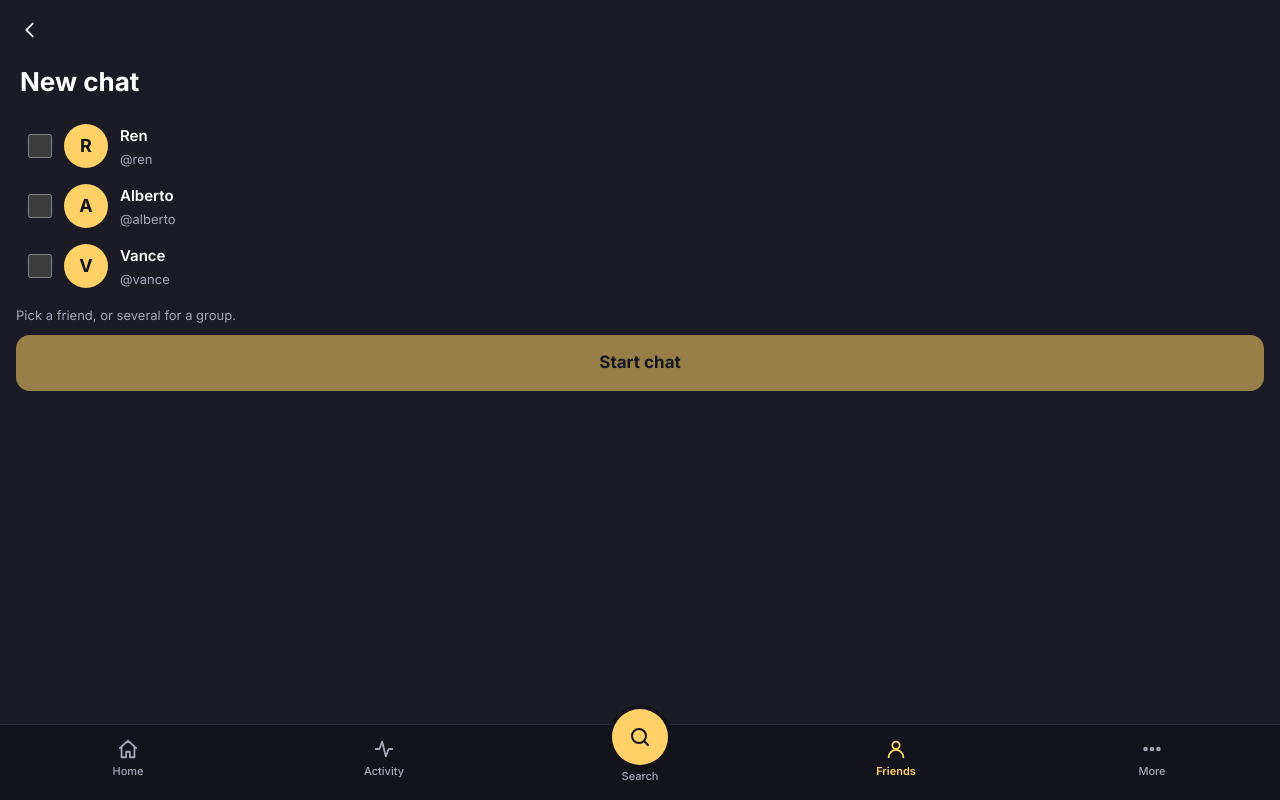
Scenario: New chat › lists your friends as checkboxes; the line says how many are picked
The image size is (1280, 800).
Expected: the button "Start chat" is disabled, [16,335,1264,391]
Click the checkbox labelled "R Ren @ren" at (40,146), box [28,134,52,158]
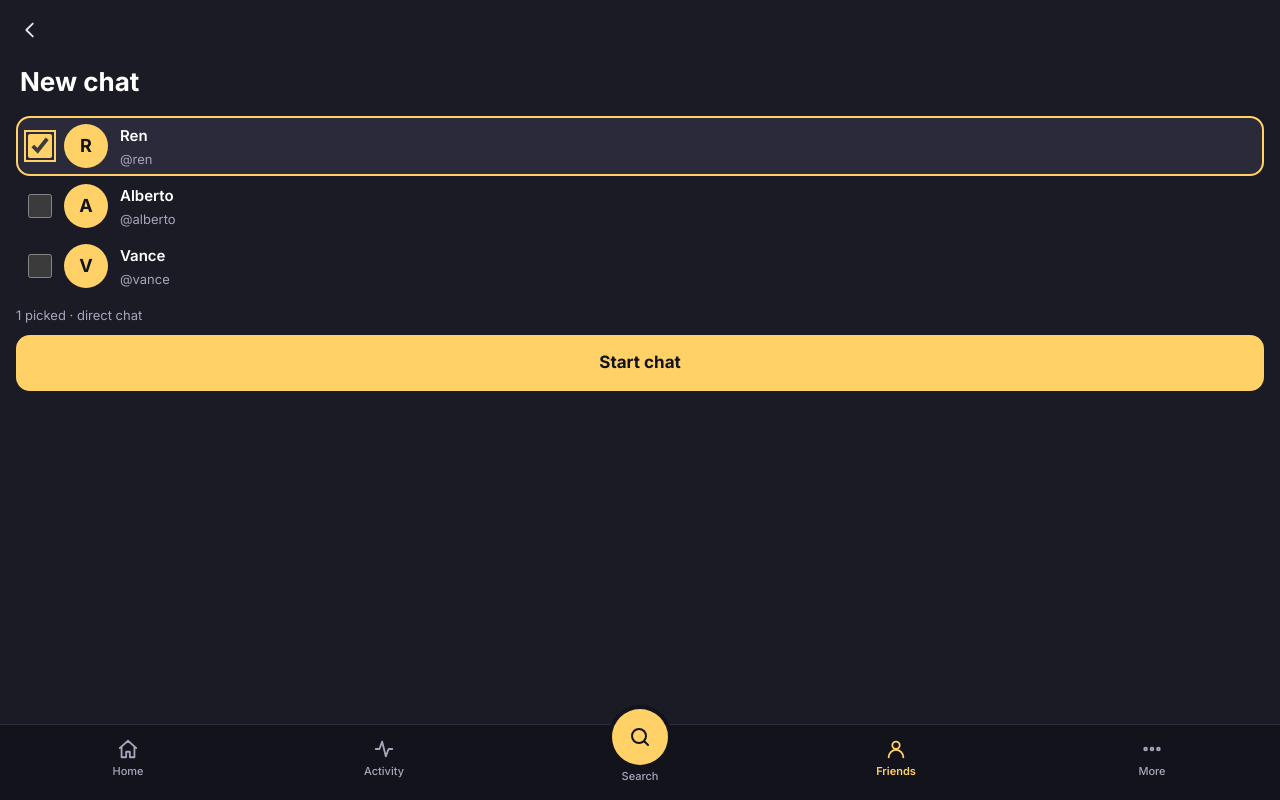
Expected: the field labelled "Group name" is not shown
Now the text "1 picked · direct chat" is shown, box [16,307,142,323]
Click the checkbox labelled "V Vance @vance" at (40,266), box [28,254,52,278]
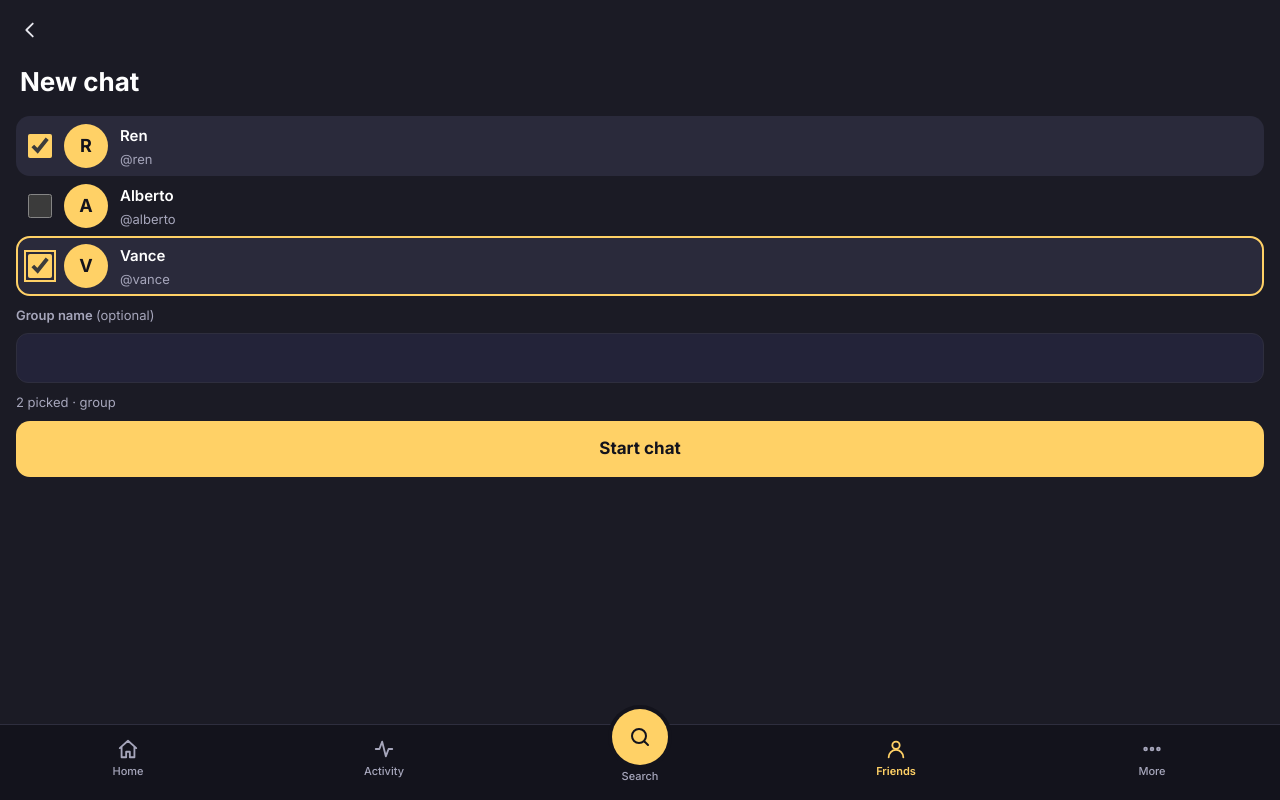
Now the text "2 picked · group" is shown, box [16,394,116,410]
Now the field labelled "Group name (optional)" is shown, box [16,333,1264,383]
